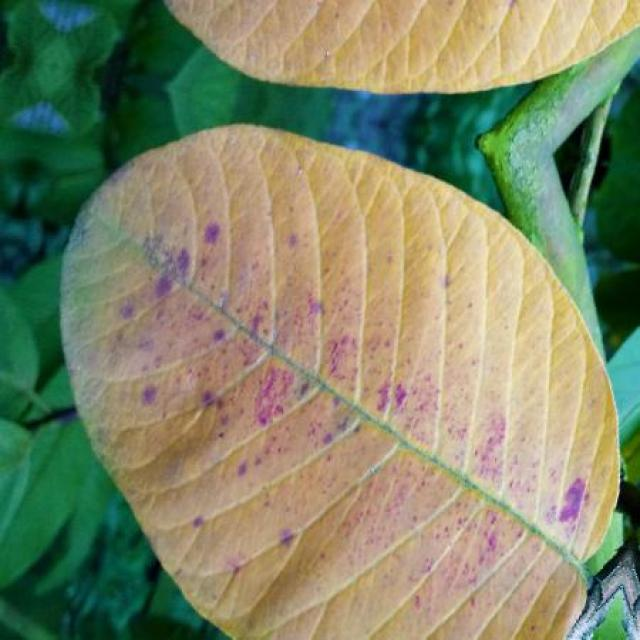Red Rust: (62, 125, 616, 640), (166, 1, 640, 94)
